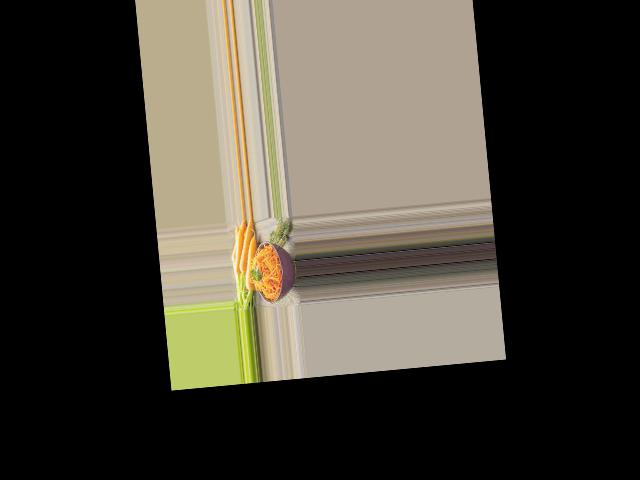carrot: (240, 232, 261, 294)
